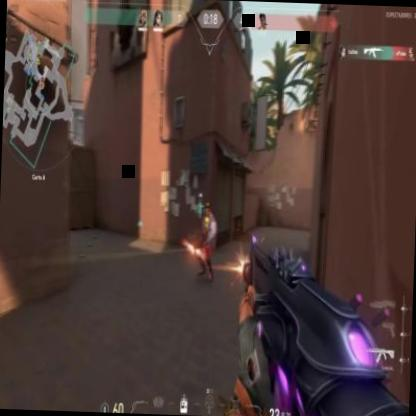enemy: (196, 202, 218, 284)
enemy_head: (204, 202, 212, 218)
